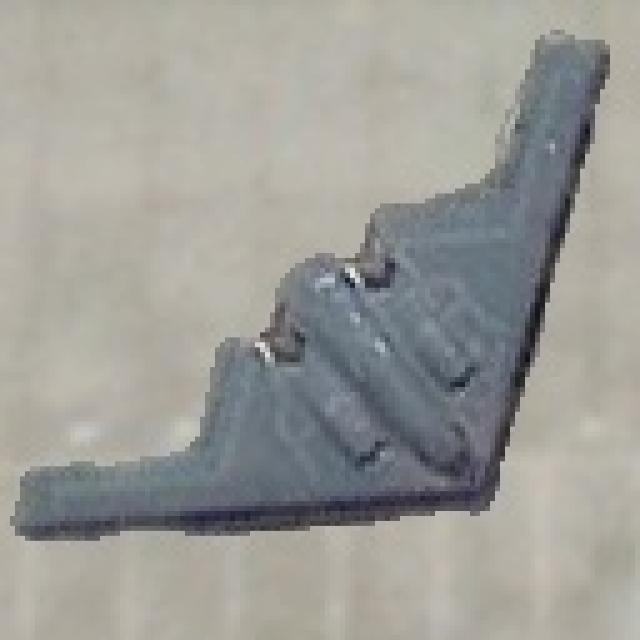B-2_TopDown: (5, 20, 610, 546)
